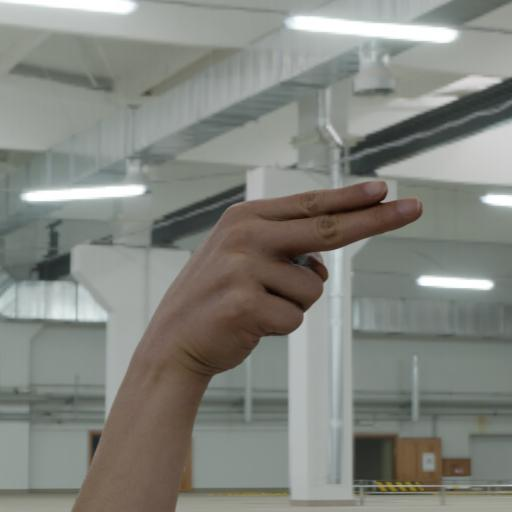G: (142, 178, 428, 374)
